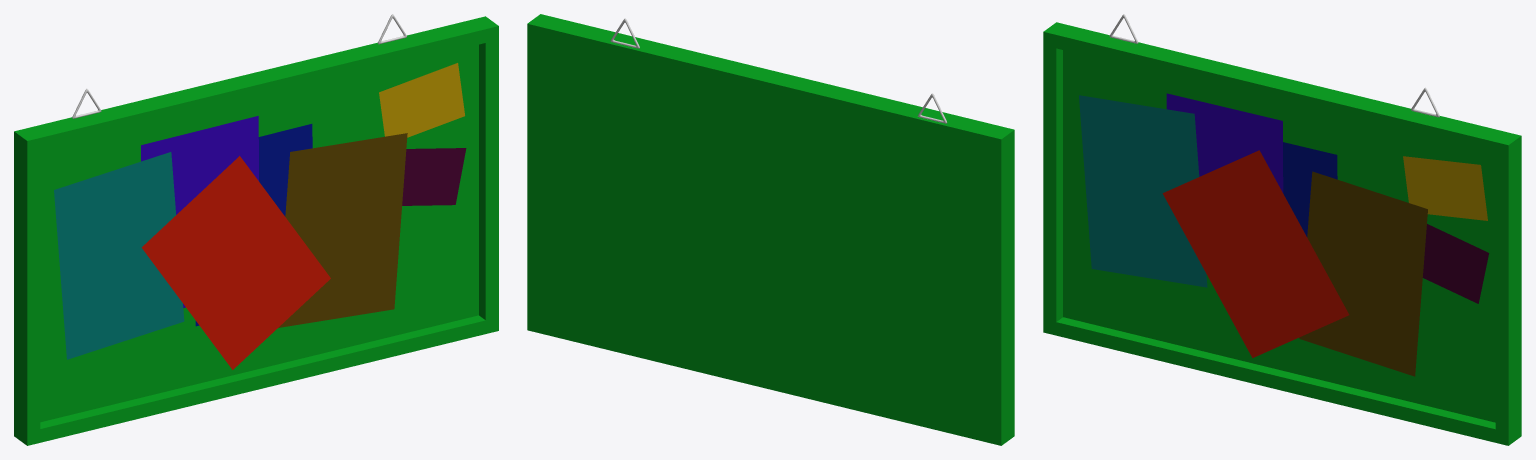
Rendered from tight_board.fbx.
The picture shows the model from 3 angles, left to right: view 1: azimuth 30°, elevation 25°; view 2: azimuth 150°, elevation 25°; view 3: azimuth 330°, elevation 25°; orthographic projection.
Parts seen in each view (by area): view 1: Box023; view 2: Box023; view 3: Box023.
Boxes of the visible parts, <box> form: Box023: <box>14,14,498,445</box>; Box023: <box>527,14,1014,445</box>; Box023: <box>1043,14,1521,445</box>.
Size of the model in its own units: 11.15 by 7.5 by 0.5419.
